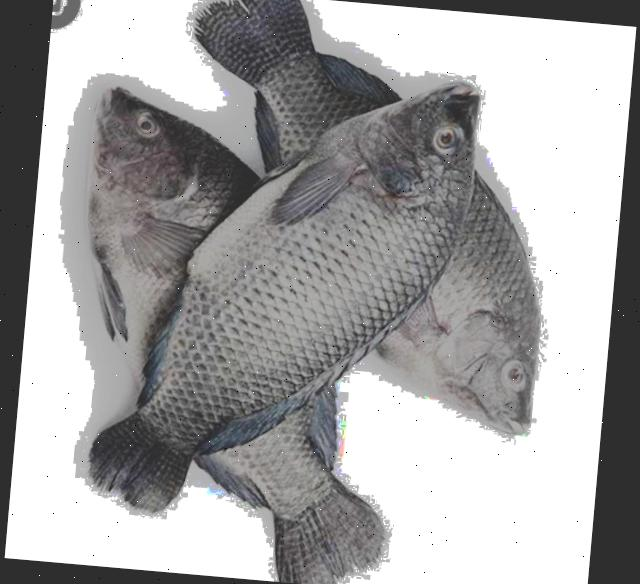Healthy Fish: (84, 80, 478, 514)
